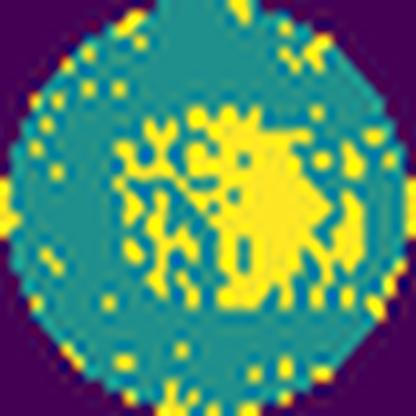Loc: (114, 102, 368, 314)
